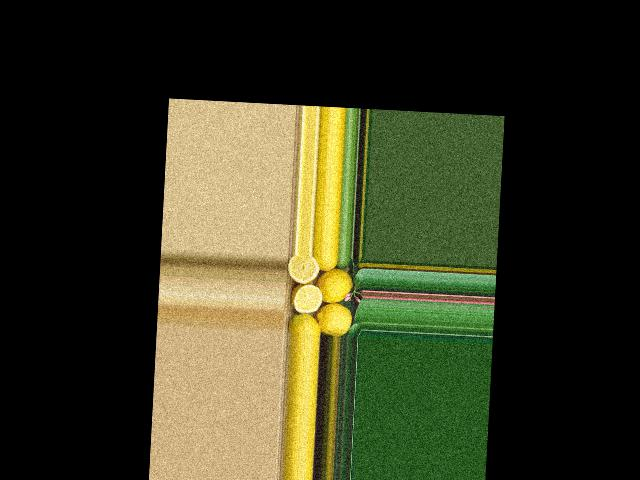lemon: (289, 308, 325, 335)
